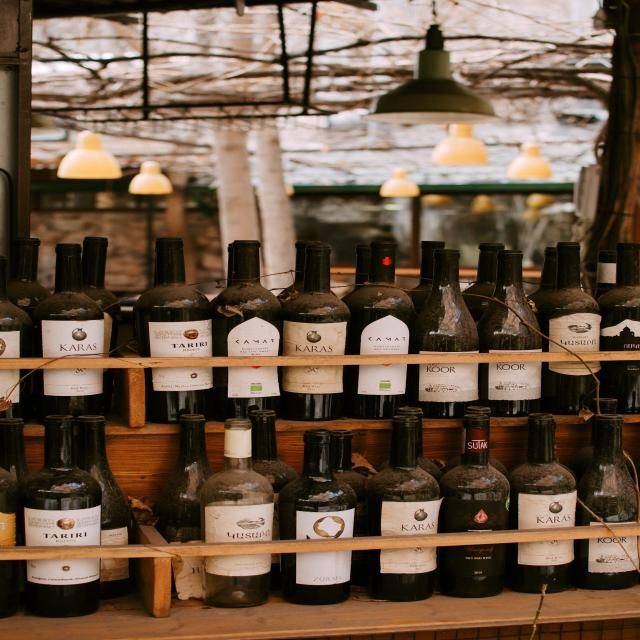Bottle: (201, 419, 273, 607), (410, 250, 478, 418), (574, 415, 638, 589), (20, 416, 101, 548), (134, 238, 212, 357), (367, 415, 440, 535), (279, 429, 357, 539), (439, 415, 509, 532), (33, 244, 104, 358), (212, 241, 281, 358), (538, 243, 600, 372), (508, 413, 576, 529), (347, 242, 413, 355), (283, 245, 349, 355), (157, 415, 212, 542), (76, 416, 130, 545), (478, 250, 541, 353), (250, 410, 297, 539), (82, 237, 120, 355), (599, 243, 639, 351), (331, 430, 368, 537), (7, 238, 50, 317), (397, 407, 442, 481), (0, 256, 32, 359), (8, 238, 50, 316), (463, 243, 504, 322), (278, 241, 321, 305), (409, 241, 444, 313), (0, 419, 30, 486), (0, 419, 30, 483), (529, 247, 557, 315), (341, 244, 371, 305), (570, 418, 595, 481), (0, 468, 18, 547), (594, 250, 618, 300), (467, 406, 491, 417)
